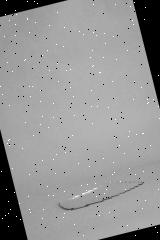glass: (51, 172, 145, 214)
